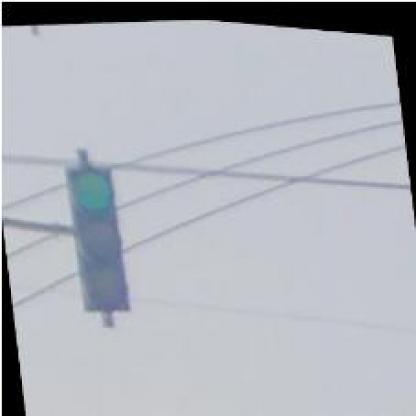green: (65, 163, 126, 313)
